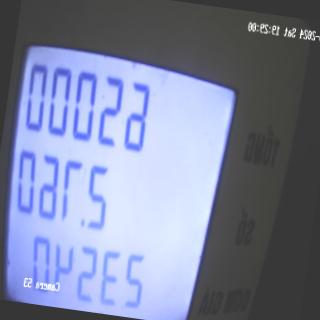screen: (0, 30, 249, 320)
